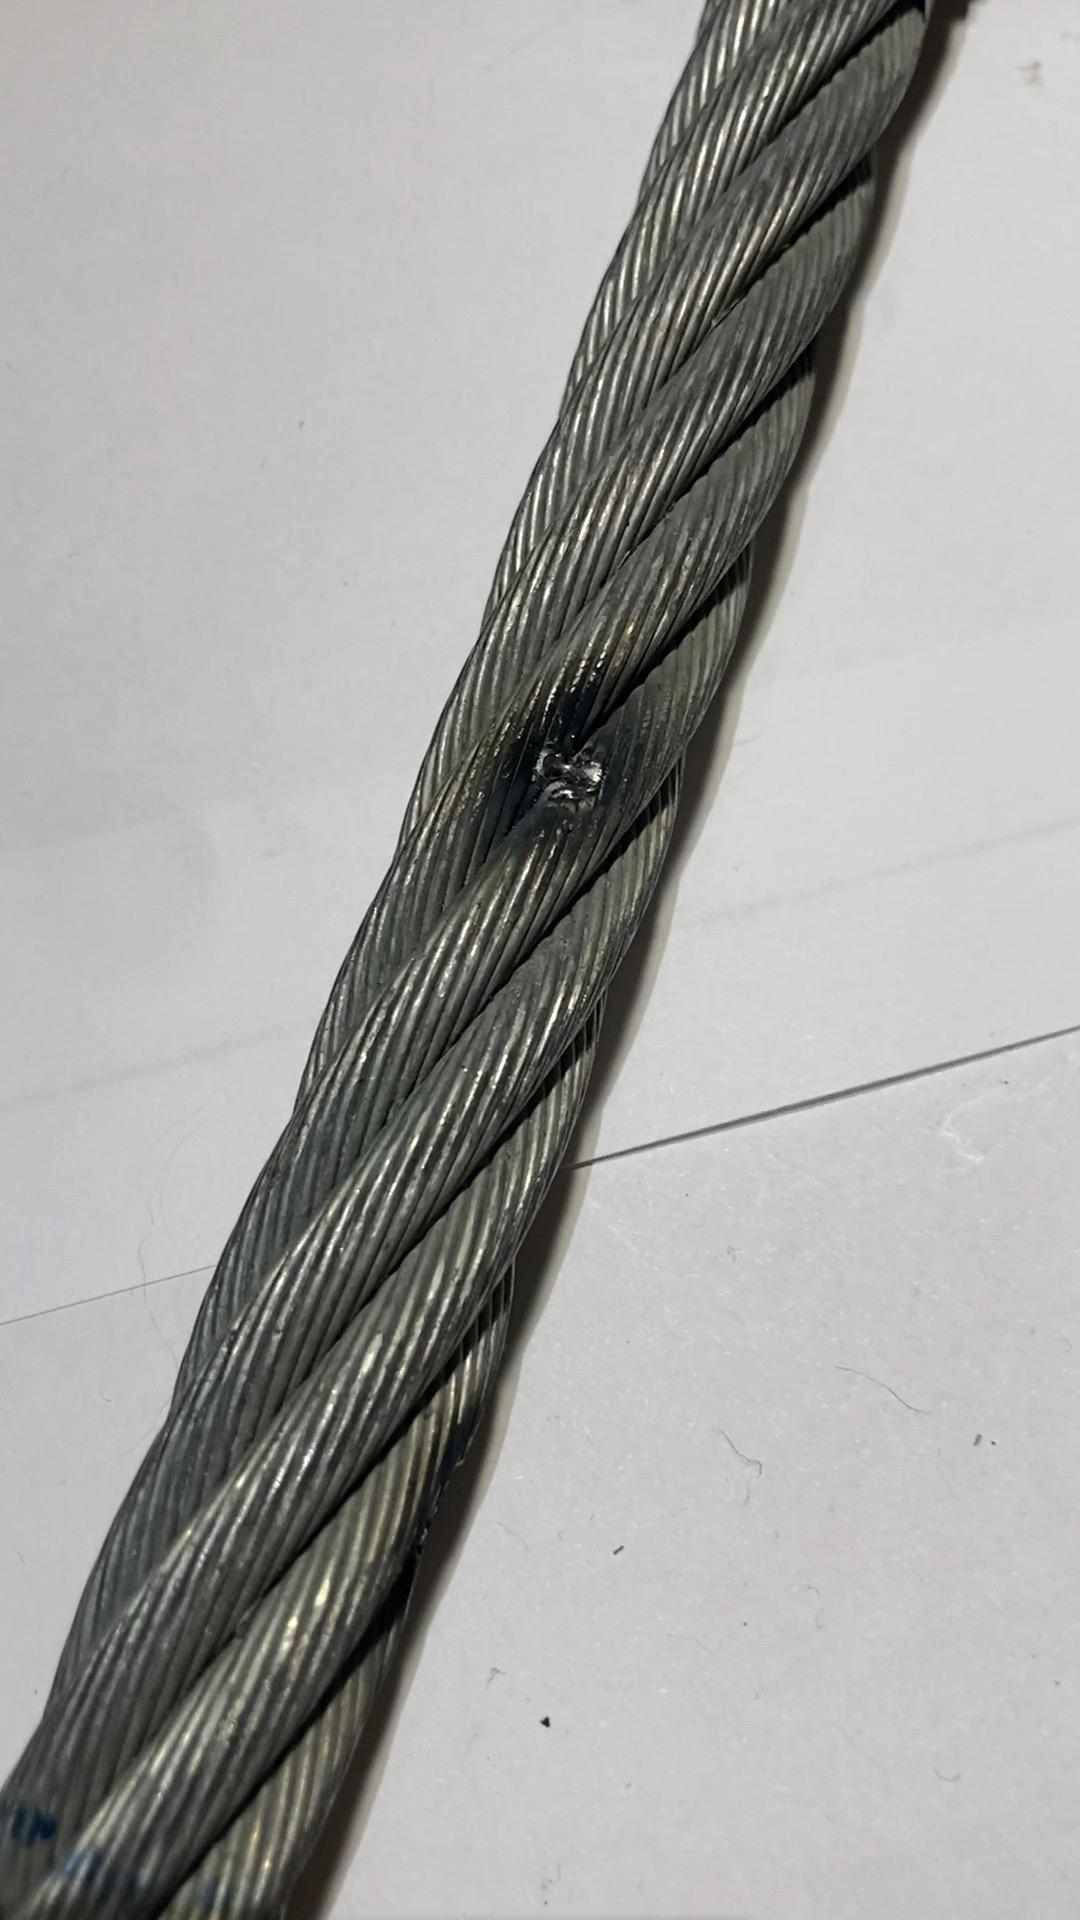thunderbolt: (487, 688, 649, 844)
